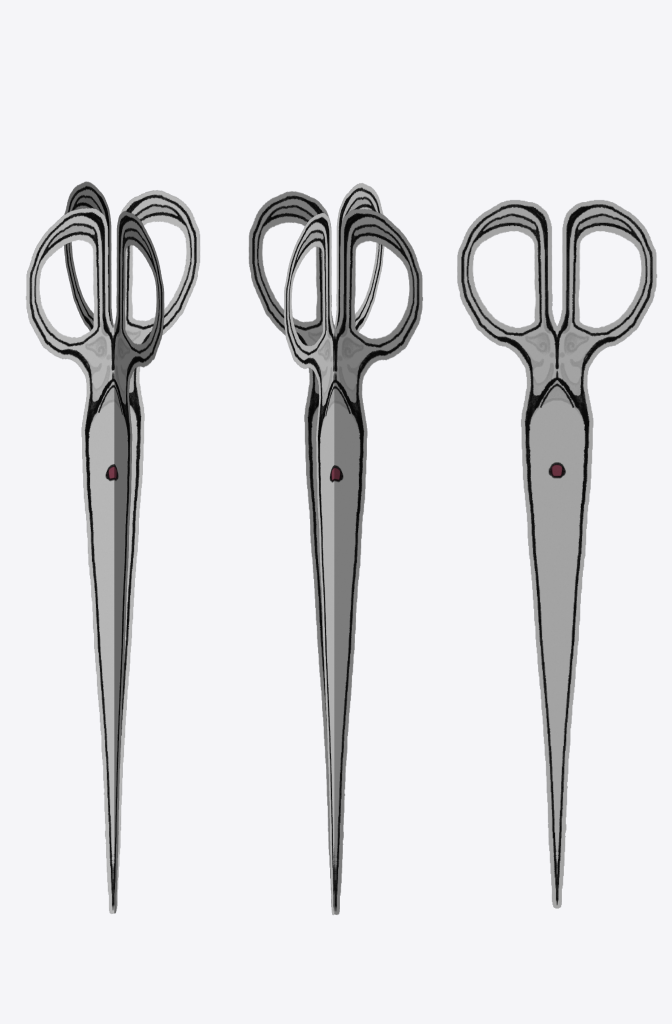
File: 攻擊物件_剪刀.glb
3 views of the same model, side by side, from view 1: azimuth 30°, elevation 25°; view 2: azimuth 150°, elevation 25°; view 3: azimuth 270°, elevation 25° (orthographic).
Visible parts, largest first — view 1: 立方體 1; view 2: 立方體 1; view 3: 立方體 1.
Part boxes in pixels (x1,y1,x2,y2): 立方體 1: [26, 181, 199, 913]; 立方體 1: [248, 183, 422, 914]; 立方體 1: [457, 200, 656, 908].
Size of the model in its own units: 0.1857 by 0.9071 by 0.1857.
1 material, 1 textured.
